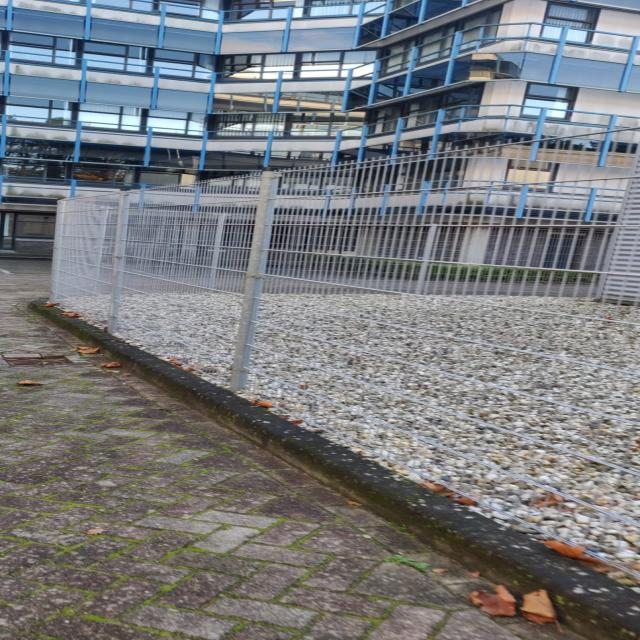fence line: (329, 139, 640, 593), (48, 186, 490, 458)
